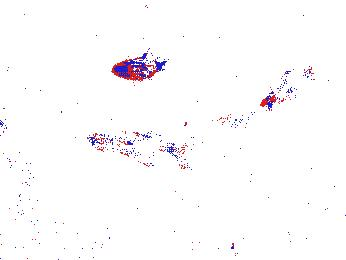X-ray fish: (19, 179, 79, 222)
red belly glassfish: (259, 63, 314, 114), (110, 55, 164, 82), (214, 109, 254, 129)
redtail glassfish: (85, 129, 193, 166)
